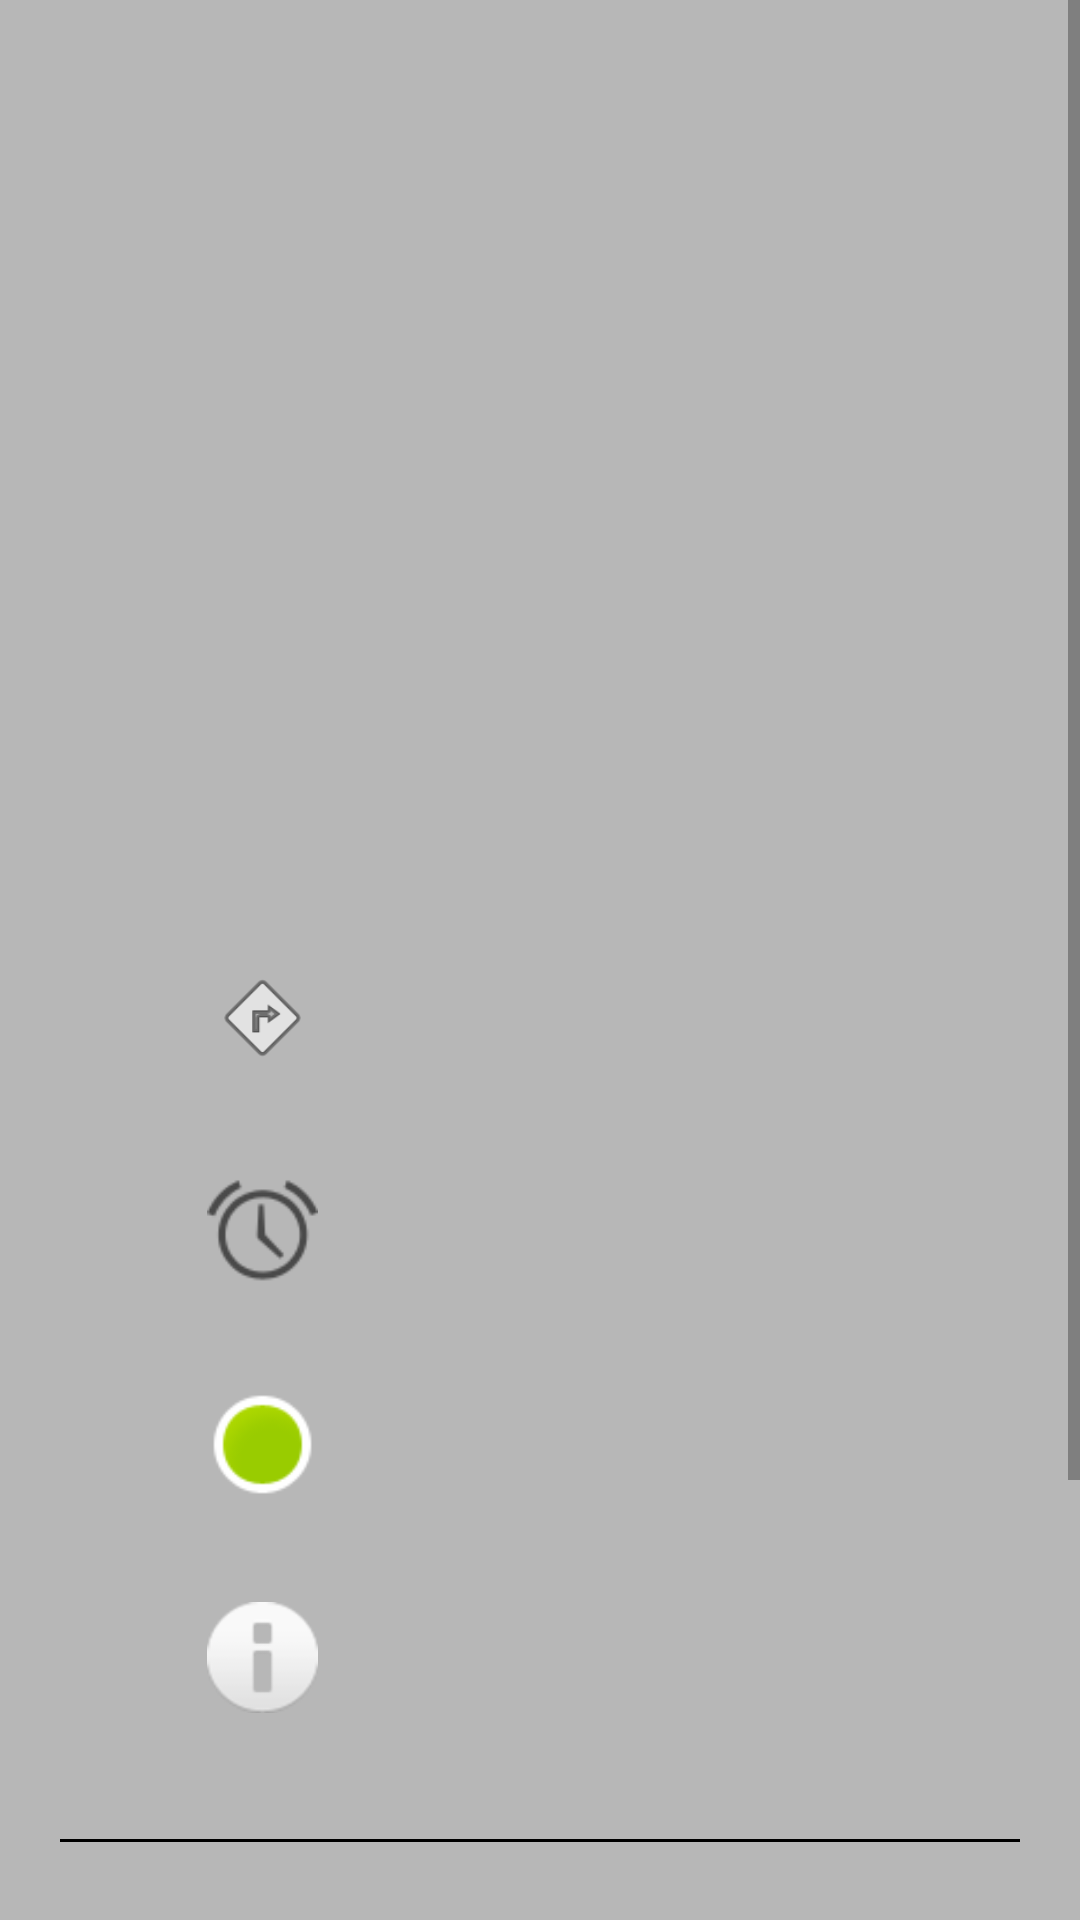

Icon click points for this 1080 × 1920 phone screenshot, format (x=x, y=y):
directions: (x=262, y=1018)
info: (x=262, y=1656)
lock idle alarm: (x=262, y=1230)
presence online: (x=262, y=1444)
